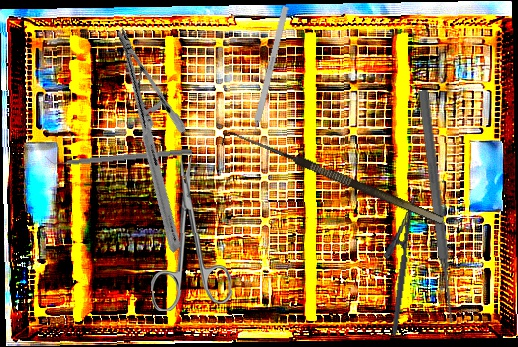Chopper: (44, 140, 193, 168)
Hook Surgical: (220, 125, 445, 237), (246, 5, 290, 150)
Iris Scissors: (149, 154, 232, 312)
Needle Holder: (37, 26, 260, 254), (373, 194, 417, 336)
Pusher: (415, 89, 459, 324)
